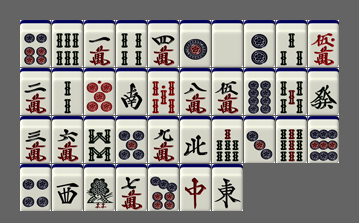0m: (308, 20, 339, 67)
0p: (84, 68, 115, 115)
0s: (148, 68, 179, 115)
1m: (84, 20, 115, 67)
1p: (180, 20, 211, 67)
1s: (84, 164, 115, 211)
1z: (212, 164, 243, 211)
2m: (20, 68, 51, 115)
2p: (244, 20, 275, 67)
2s: (52, 68, 83, 115)
2z: (116, 68, 147, 115)
3m: (20, 116, 51, 163)
3p: (244, 116, 275, 163)
3s: (276, 20, 307, 67)
3z: (52, 164, 83, 211)
4m: (148, 20, 179, 67)
4p: (20, 164, 51, 211)
4s: (116, 20, 147, 67)
4z: (180, 116, 211, 163)
5m: (212, 68, 243, 115)
5p: (116, 116, 147, 163)
5s: (276, 68, 307, 115)
5z: (212, 20, 243, 67)
6m: (52, 116, 83, 163)
6p: (20, 20, 51, 67)
6s: (52, 20, 83, 67)
6z: (308, 68, 339, 115)
7m: (116, 164, 147, 211)
7p: (148, 164, 179, 211)
7s: (212, 116, 243, 163)
7z: (180, 164, 211, 211)
8m: (180, 68, 211, 115)
8p: (244, 68, 275, 115)
8s: (84, 116, 115, 163)
9m: (148, 116, 179, 163)
9p: (308, 116, 339, 163)
9s: (276, 116, 307, 163)
